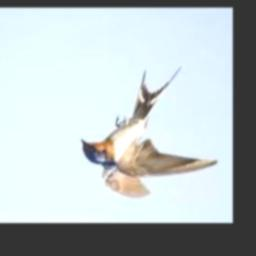Swallow: (82, 66, 219, 199)
